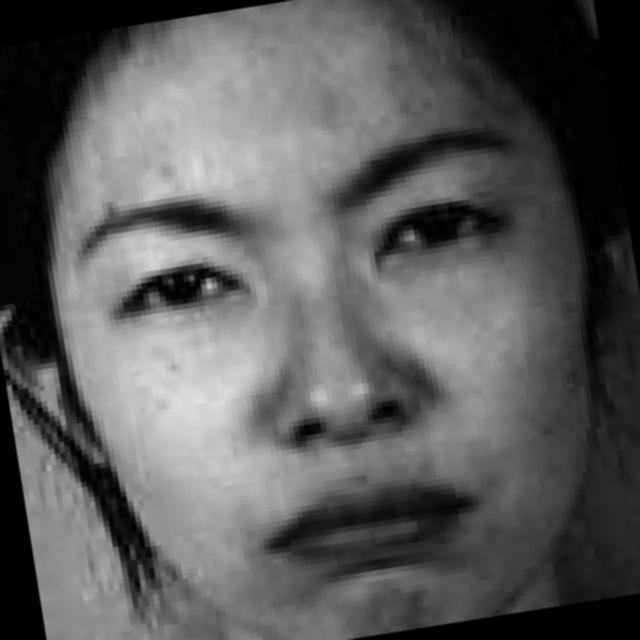disgust: (52, 7, 598, 640)
